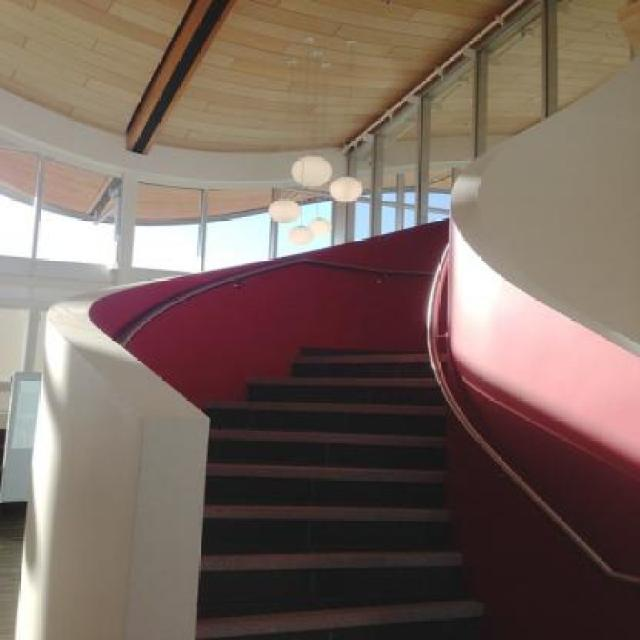stair: (222, 242, 512, 628)
